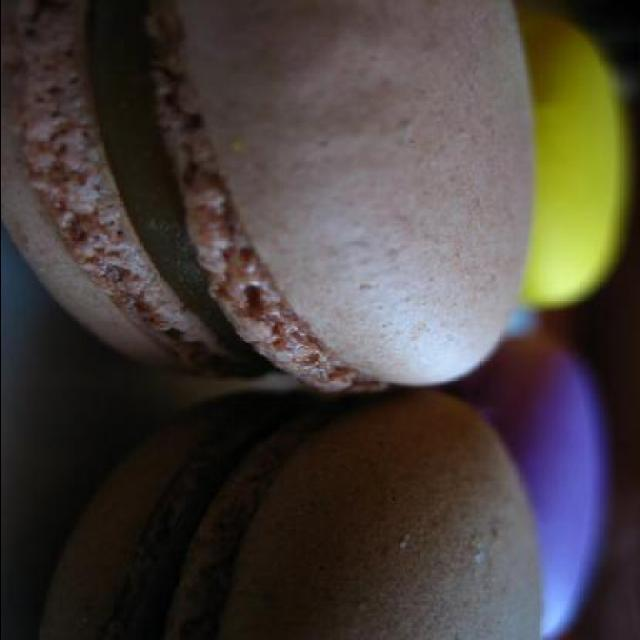Macaron: (8, 3, 620, 640)
